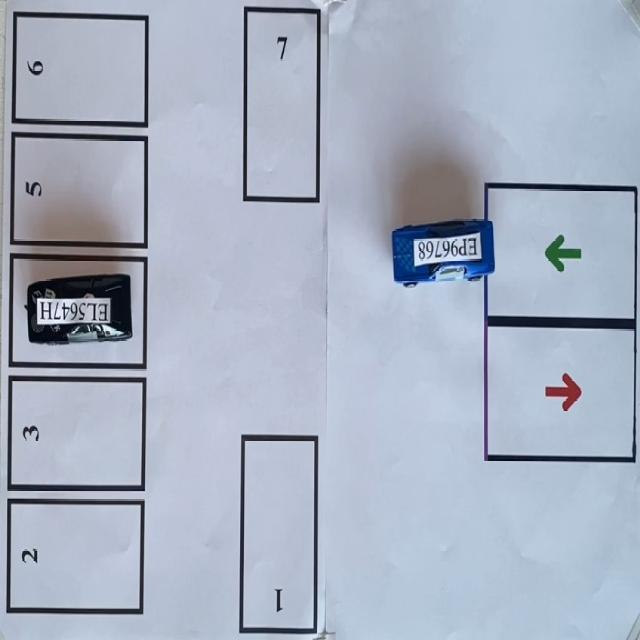car: (25, 271, 134, 348), (389, 216, 497, 292)
